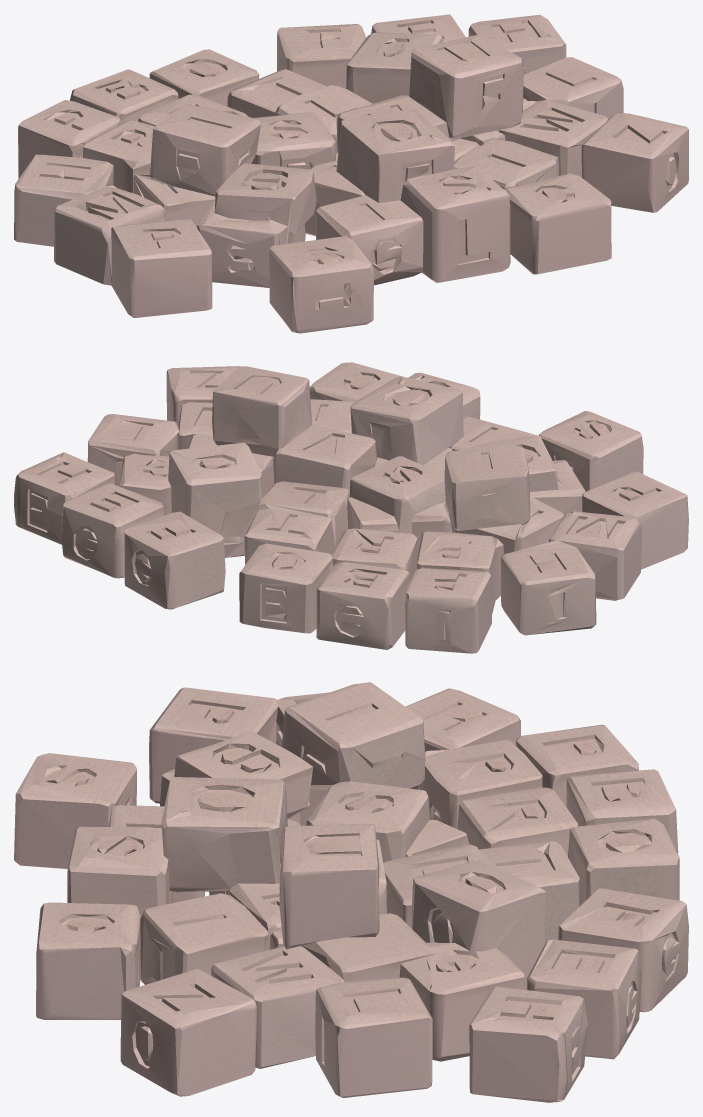
Rendered from cubi_N.glb.
3 views of the same model, one above another, from view 1: azimuth 30°, elevation 25°; view 2: azimuth 150°, elevation 25°; view 3: azimuth 270°, elevation 25° (orthographic). The views are drawn at different scales.
Size of the model in its own units: 1.9 by 0.4098 by 1.55.
1 material, 1 textured.
